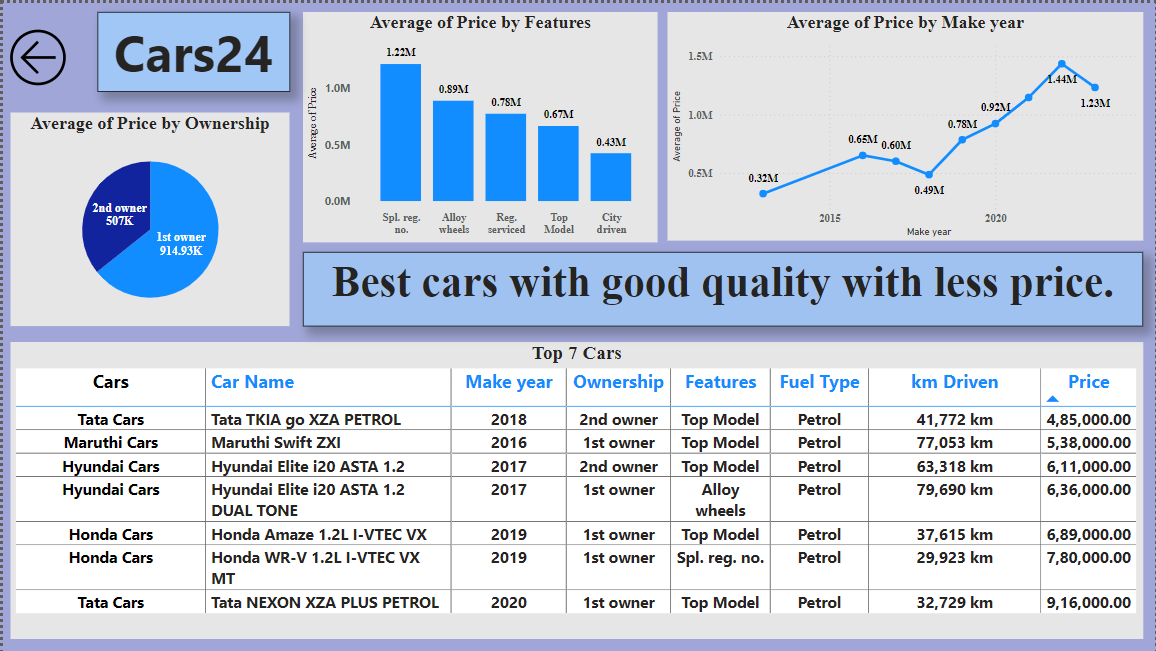

The page's visual inventory and layout, read from the dashboard file:
{"tool":"powerbi","page":{"name":"Report2","canvas":[1280,720],"ordinal":1},"visuals":[{"type":"actionButton","box":[0,21,92.3,77.7],"z":0},{"type":"columnChart","fields":{"Category":["Table1.Features"],"Y":["Avg(Table1.Price)"]},"box":[332.9,10,394.3,255.7],"z":1000},{"type":"tableEx","title":"Top 7 Cars","fields":{"Values":["Table1.Cars Hierarchy.Cars","Table1.Cars Hierarchy.Car Name","Sum(Table1.Make year)","Table1.Ownership","Table1.Features","Table1.Fuel Type","Table1.km Driven","Sum(Table1.Price)"]},"box":[8.2,376.1,1258.6,329.9],"z":2000},{"type":"pieChart","fields":{"Category":["Table1.Ownership"],"Y":["Avg(Table1.Price)"]},"box":[8.2,122.1,310.1,237.5],"z":3000},{"type":"lineChart","fields":{"Y":["Avg(Table1.Price)"],"Category":["Table1.Make year"]},"box":[738.6,10,528.6,254.3],"z":4000},{"type":"textbox","box":[333.2,277.1,933.6,82.5],"z":5000},{"type":"textbox","box":[104.3,10,214.3,88.6],"z":6000}]}

Visuals, with their boxes in screenshot pixels (x1, y1, x2, y2), scaled from the page's 1280x720 canvas onto the 1156x651 screenshot:
actionButton: 0/19/83/89
columnChart - Table1.Features x Avg(Table1.Price): 301/9/657/240
"Top 7 Cars" tableEx: 7/340/1144/638
pieChart - Table1.Ownership x Avg(Table1.Price): 7/110/287/325
lineChart - Avg(Table1.Price) x Table1.Make year: 667/9/1144/239
textbox: 301/251/1144/325
textbox: 94/9/288/89
